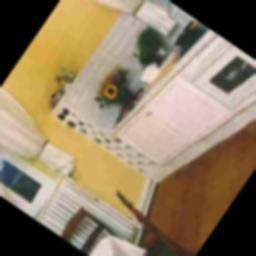Electrodomestico: (177, 29, 256, 126)
